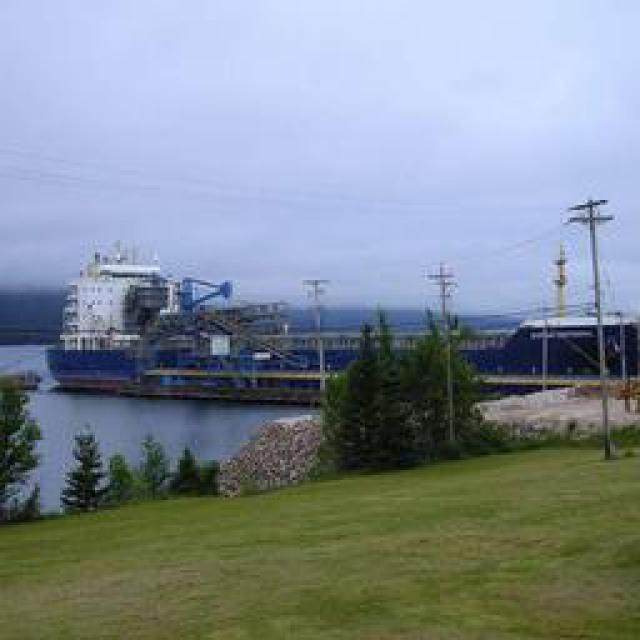Ship: (50, 253, 365, 398)
